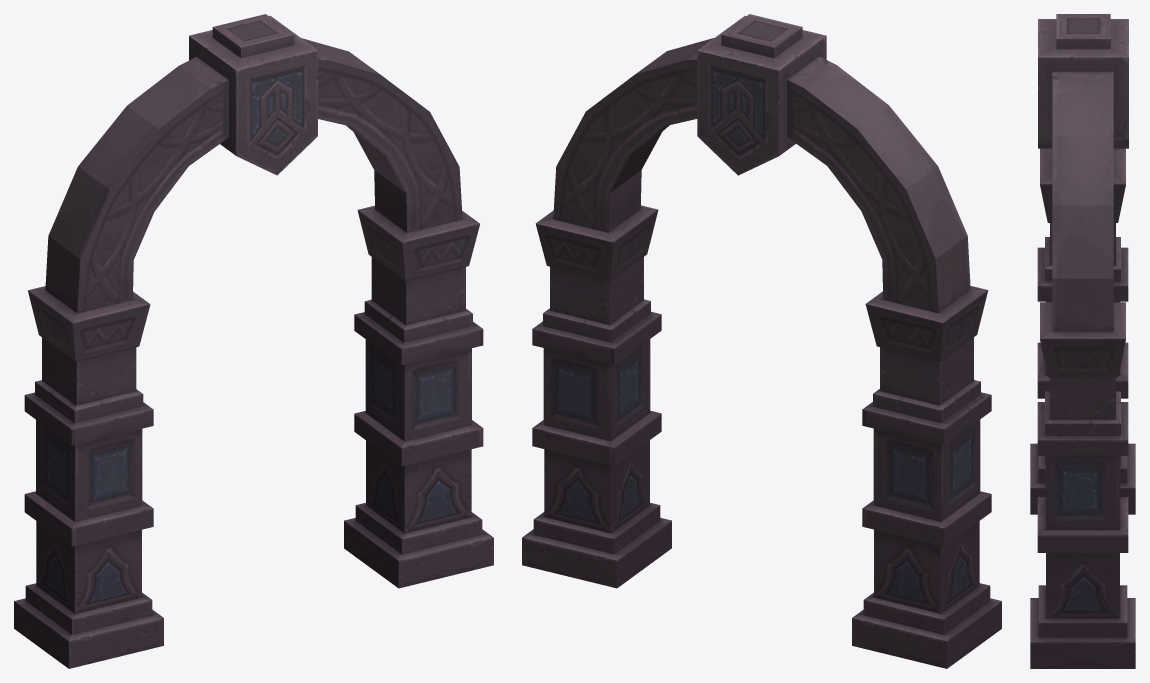
The model's file is SD_shizhu06.FBX.
3 renders of one model, left to right at view 1: azimuth 30°, elevation 25°; view 2: azimuth 150°, elevation 25°; view 3: azimuth 270°, elevation 25°, orthographic. The views are drawn at different scales.
Parts seen in each view (by area): view 1: SD_shizhu06; view 2: SD_shizhu06; view 3: SD_shizhu06.
Part boxes in pixels (box(x1,y1,x2,y2)): SD_shizhu06: box(14, 14, 493, 668); SD_shizhu06: box(522, 14, 1001, 668); SD_shizhu06: box(1030, 14, 1135, 668).
Size of the model in its own units: 218 by 278 by 48.88.
1 material, 1 textured.
